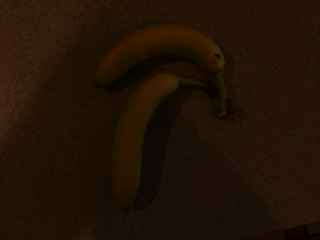banana: (108, 70, 220, 215), (91, 19, 236, 121)
